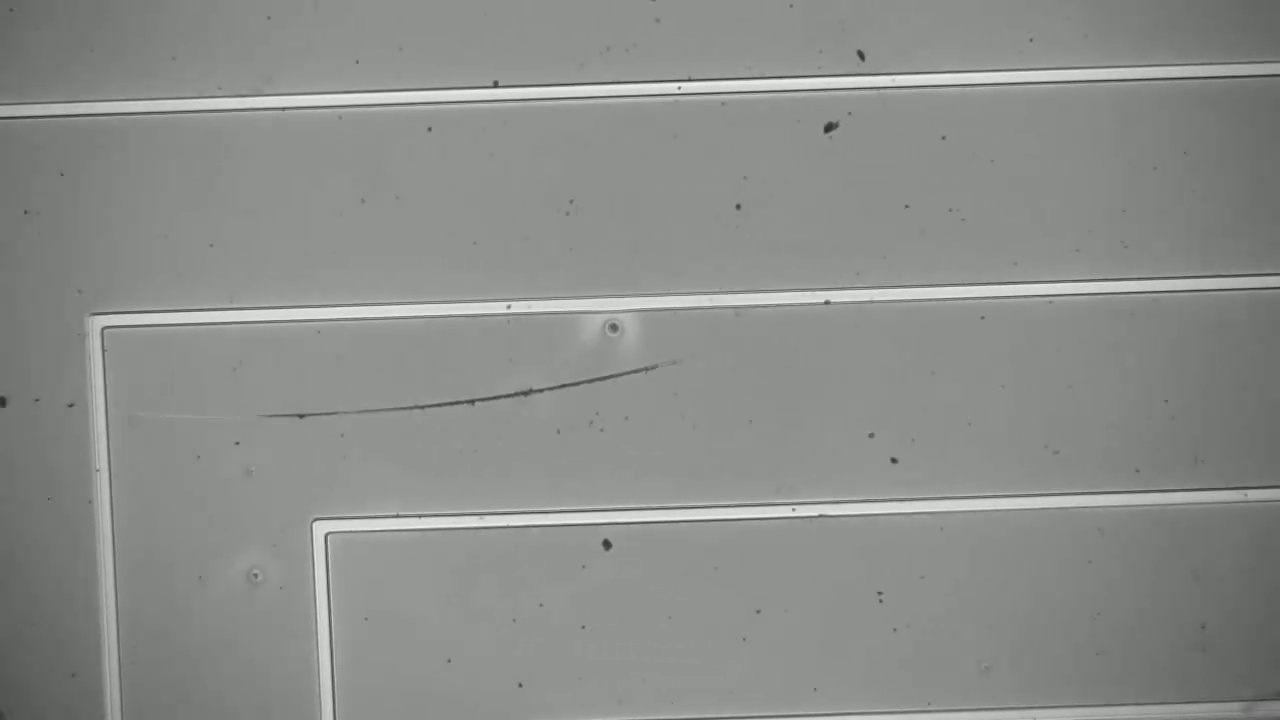scratch: (255, 355, 701, 435)
